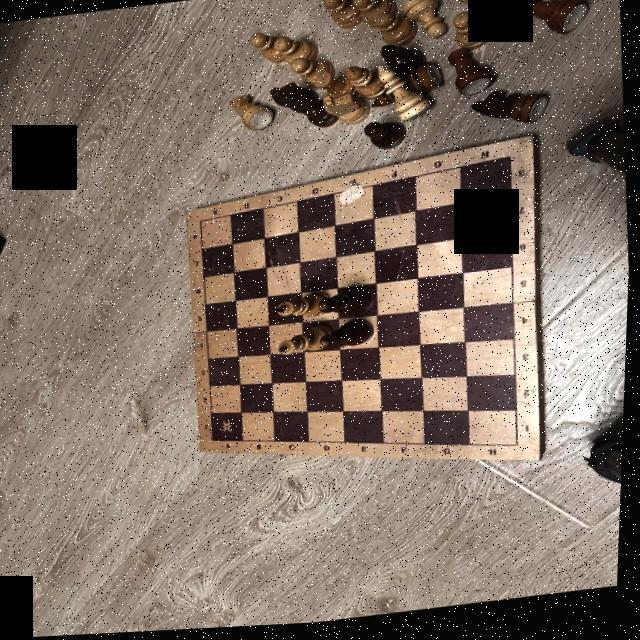chess-table-corners: (514, 442, 528, 457), (504, 154, 518, 168), (196, 216, 208, 227), (211, 438, 221, 444)
